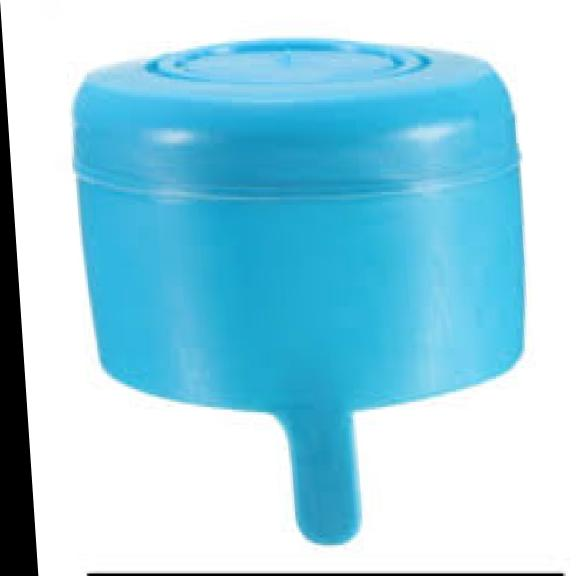Plastik: (67, 36, 526, 550)
